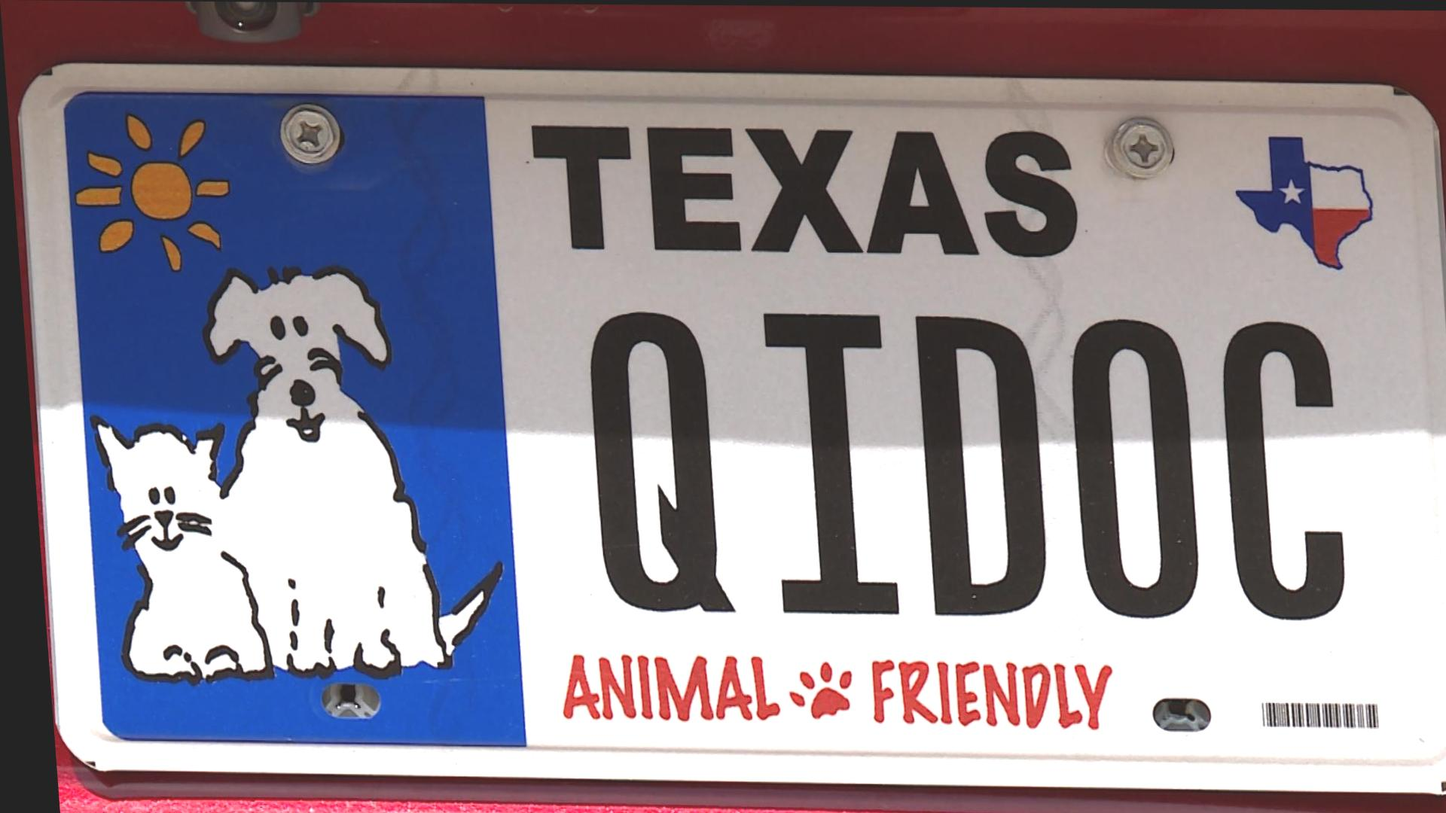License_Plate: (4, 60, 1446, 791)
